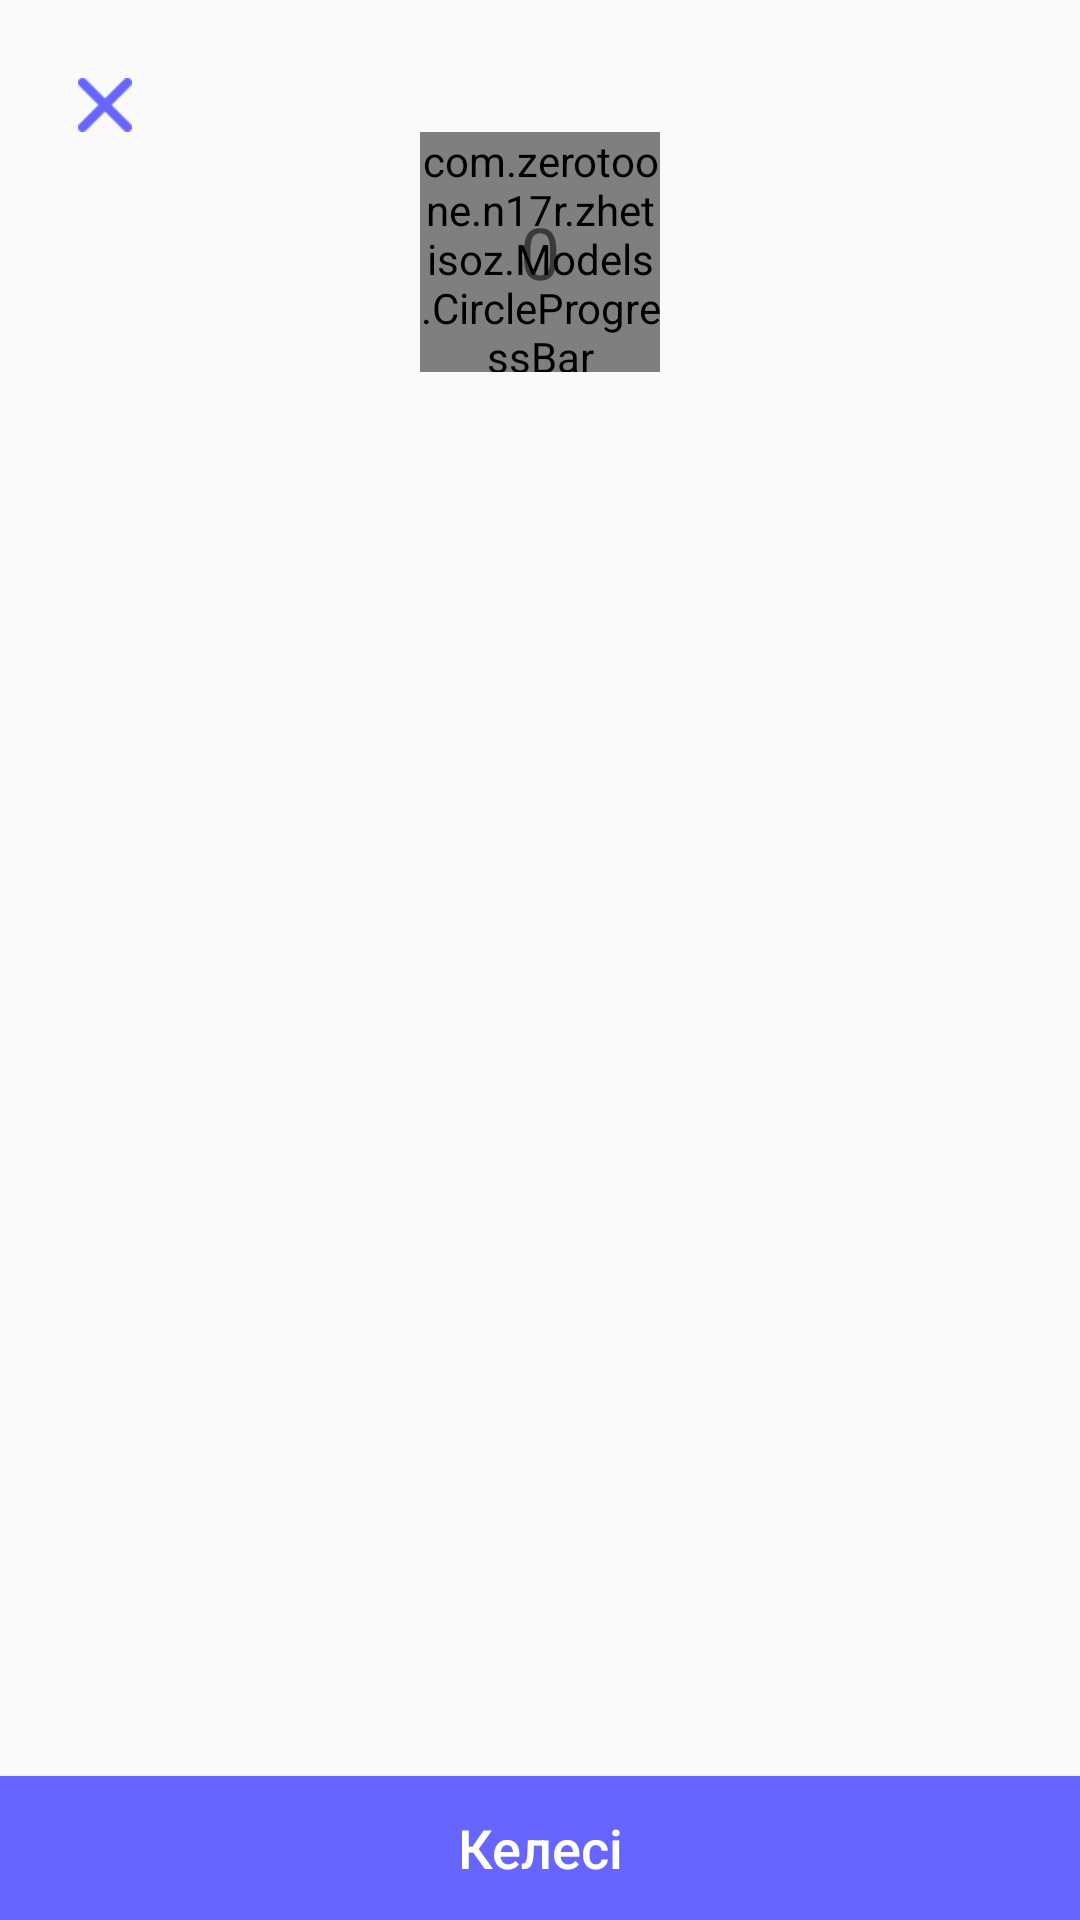

Named icons in this screenshot (1080 x 1920) and their centers, (x=x, y=y):
close: (x=105, y=105)
